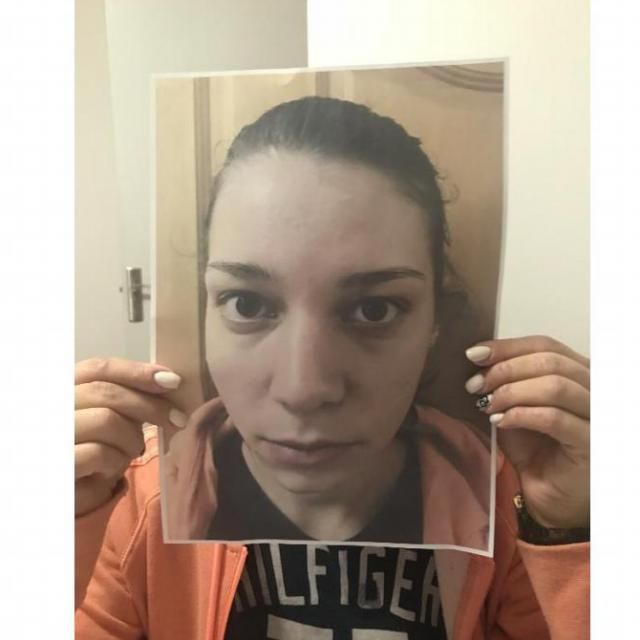photo: (143, 53, 520, 566)
